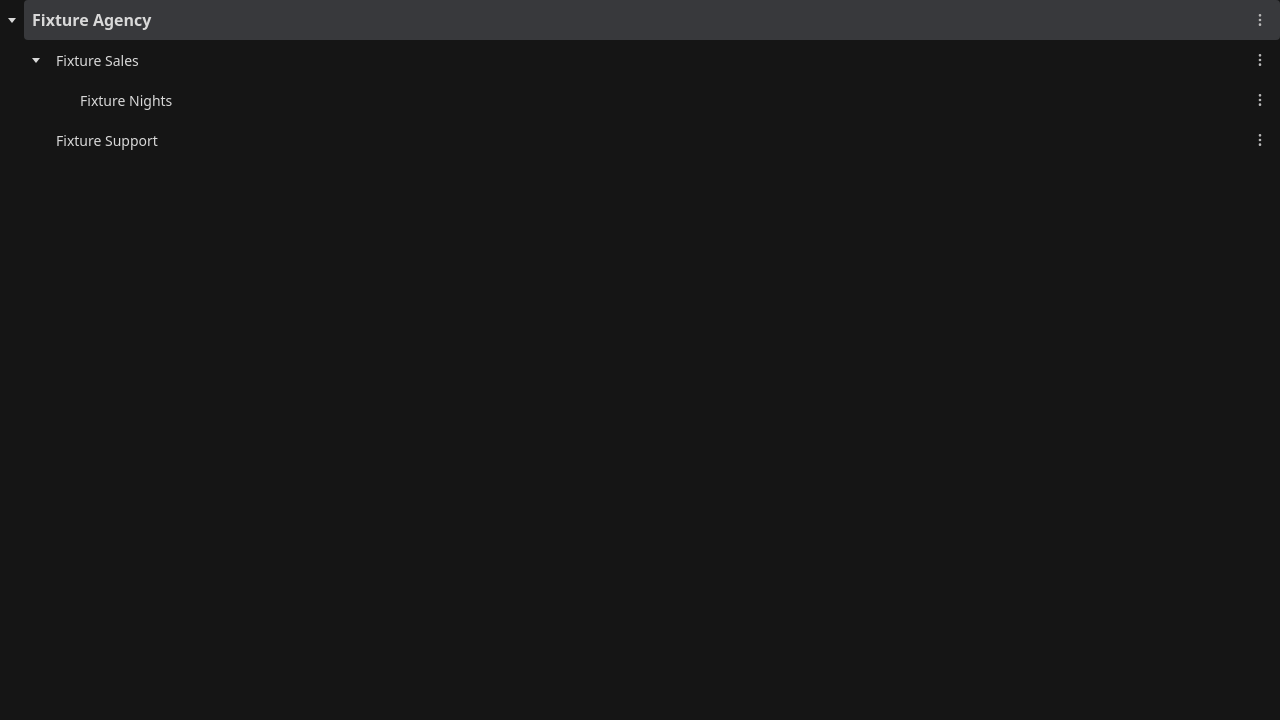
Scenario: GroupTree › Add sub-group opens Add Group Settings and Submit creates a child under that node
Click the button named "Actions for Fixture Nights" at (1260, 100), box [1248, 88, 1272, 112]
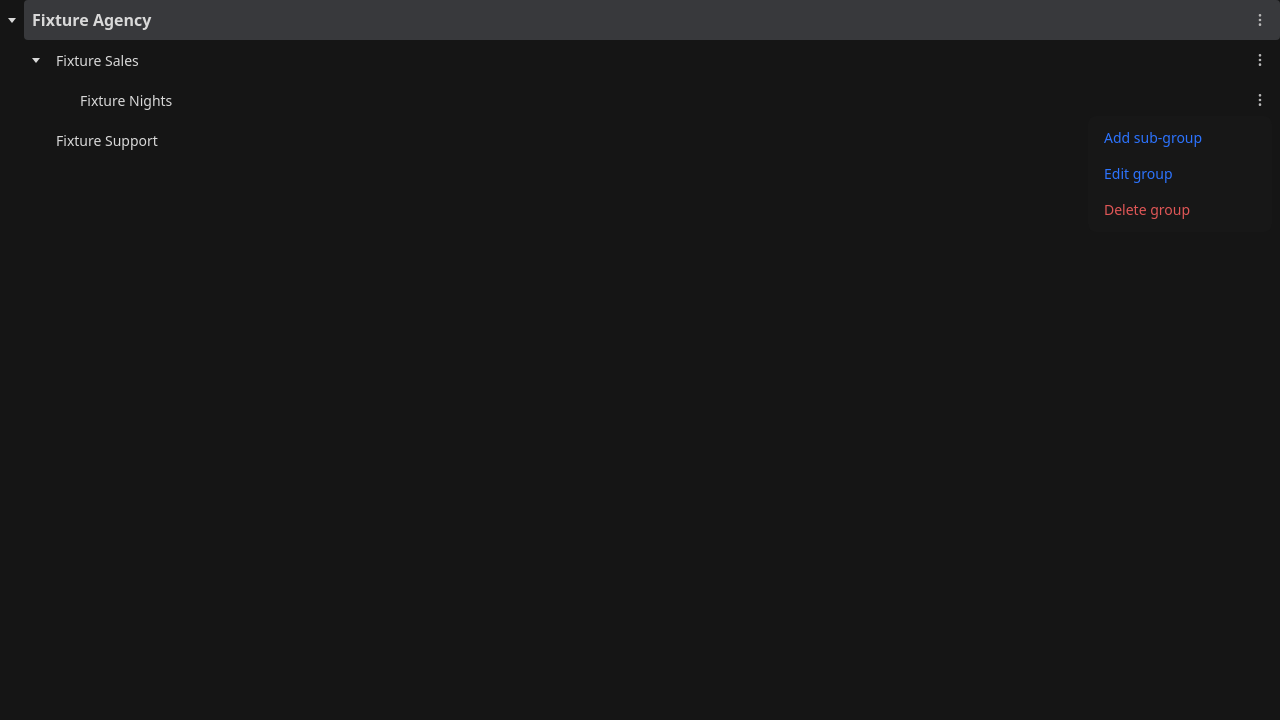
Click the menu item "Add sub-group" at (1180, 138), box [1092, 120, 1268, 156]
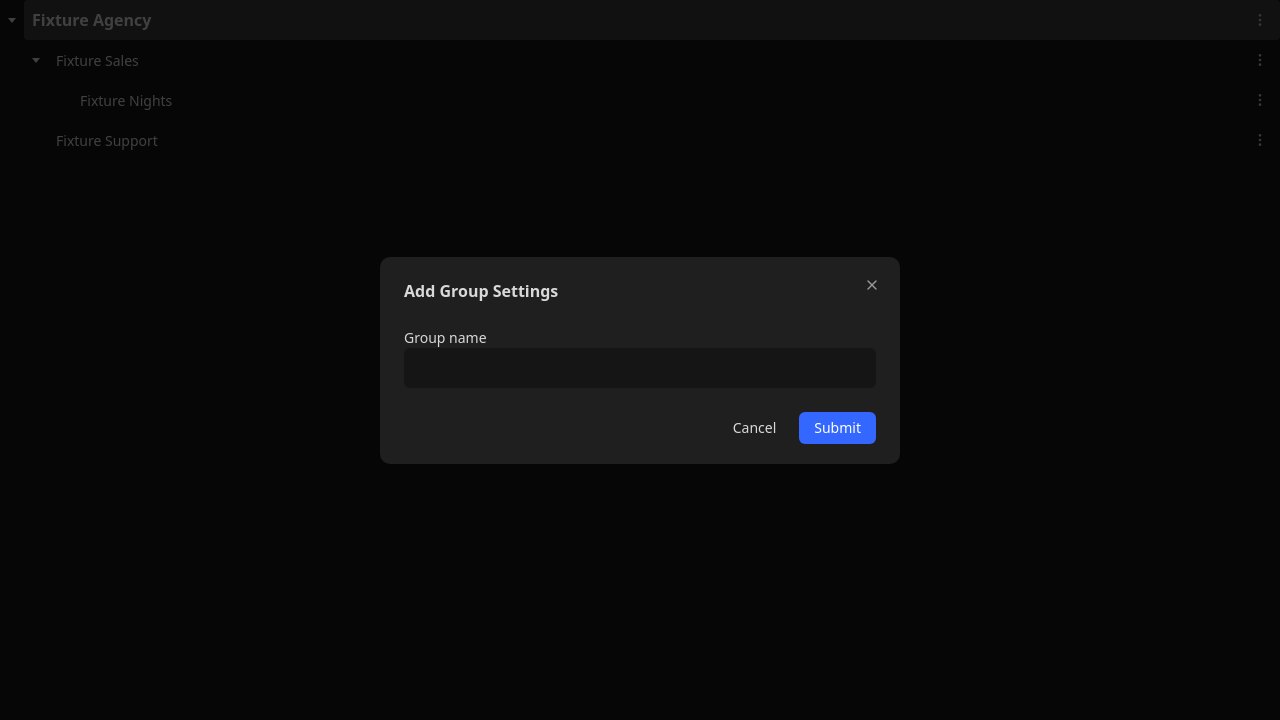
Expected: the button "Submit" is disabled, [799, 412, 876, 444]
Type "  Fixture Late  " into the field labelled "Group name" at (640, 368), box [404, 348, 876, 388]
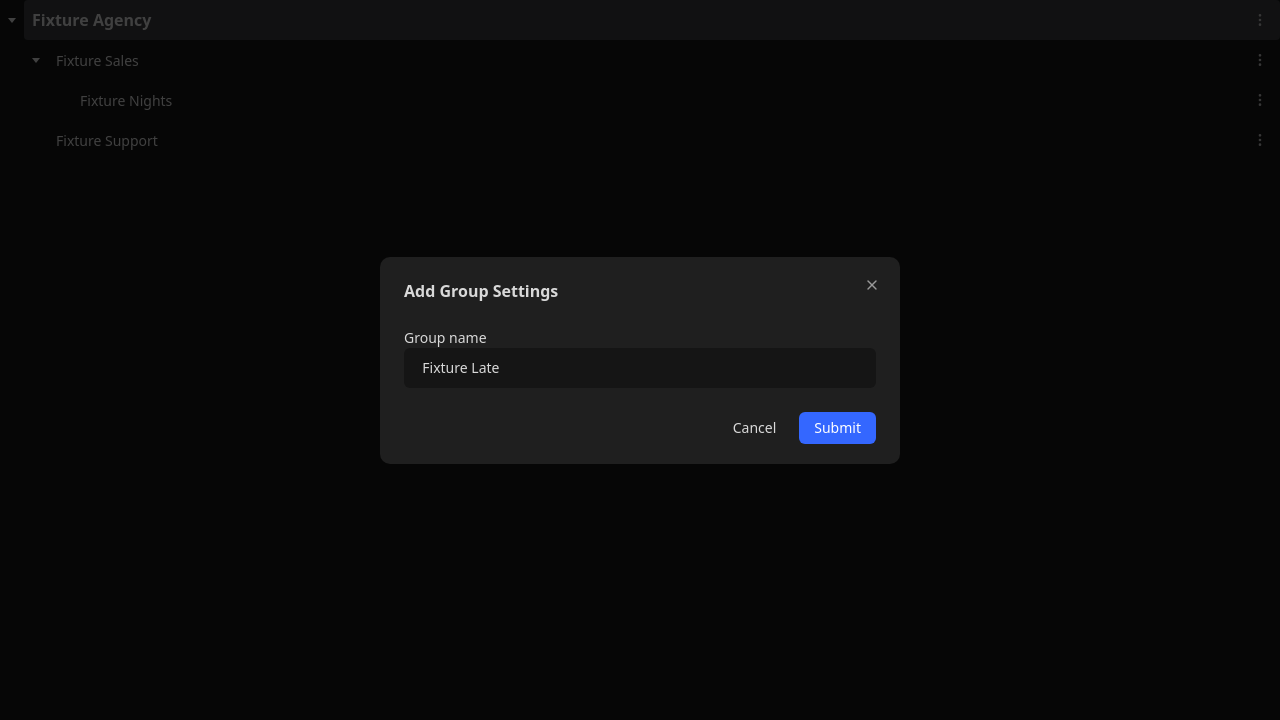
Click the button "Submit" at (838, 428), box [799, 412, 876, 444]
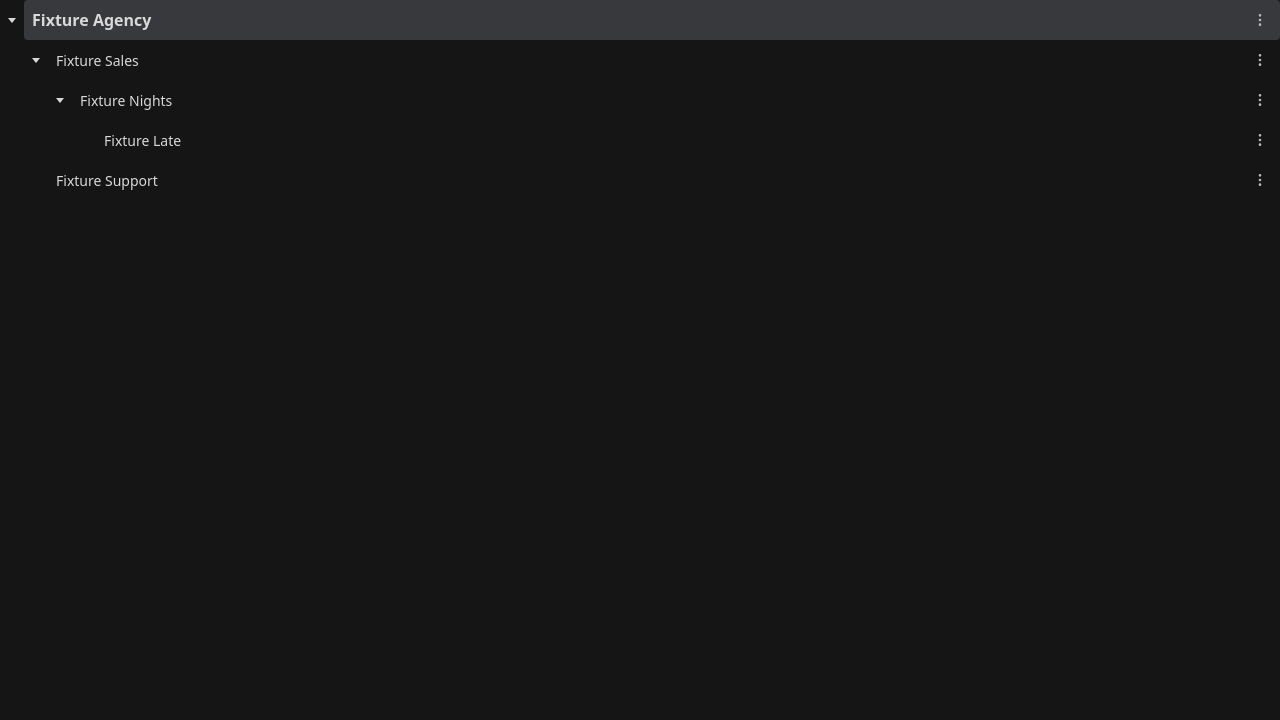
Expected: the dialog is gone
